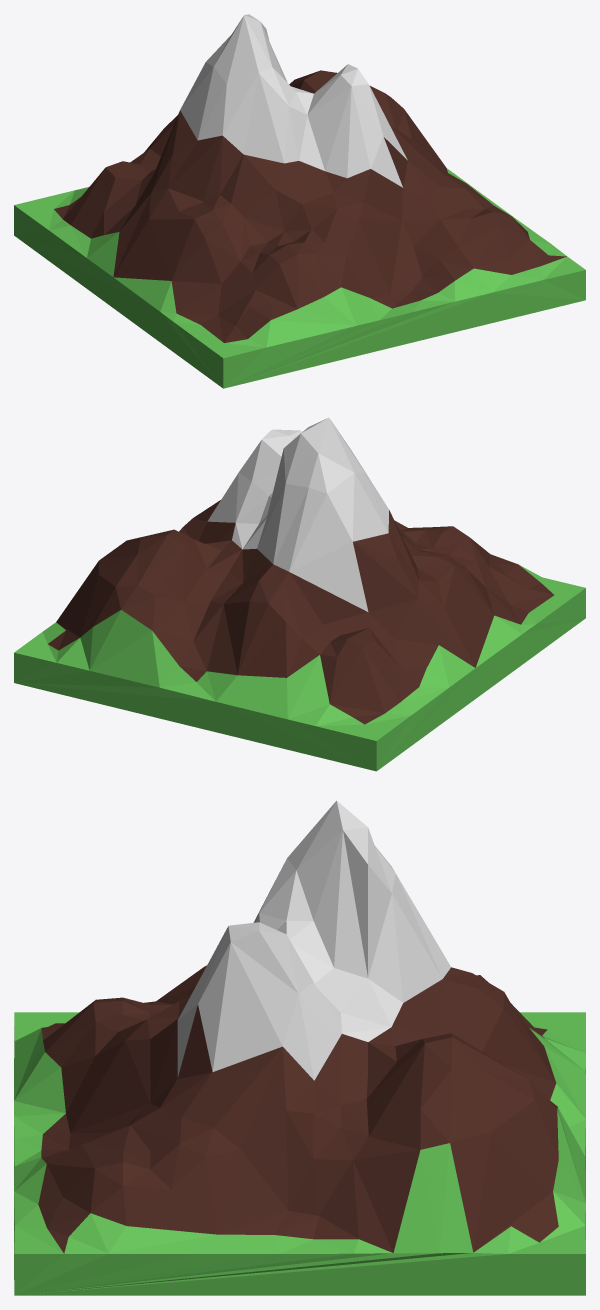
File: mountains_1.fbx
The picture shows the model from 3 angles, top to bottom: view 1: azimuth 30°, elevation 25°; view 2: azimuth 150°, elevation 25°; view 3: azimuth 270°, elevation 25°; orthographic projection. The views are drawn at different scales.
Parts seen in each view (by area): view 1: Куб; view 2: Куб; view 3: Куб.
Part boxes in pixels (x1,y1,x2,y2): Куб: (14, 14, 585, 388); Куб: (14, 417, 585, 771); Куб: (14, 800, 585, 1295).
Bounding box in the file's own units: 2001 × 1335 × 2001.
